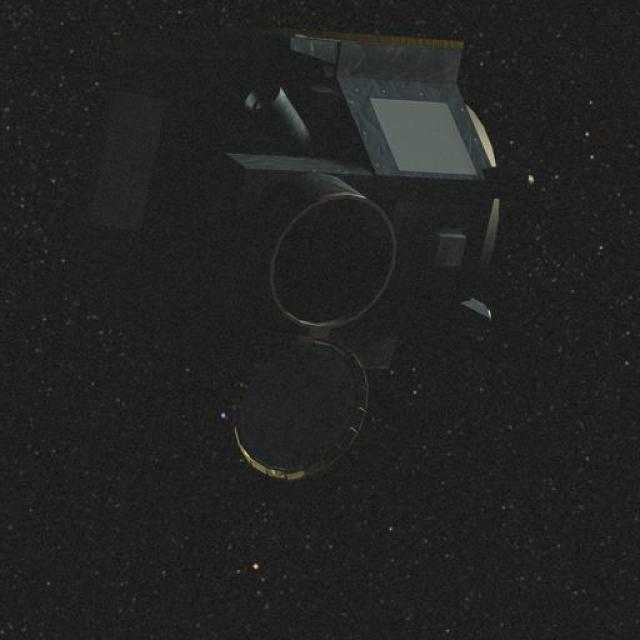cheops: (72, 16, 488, 491)
